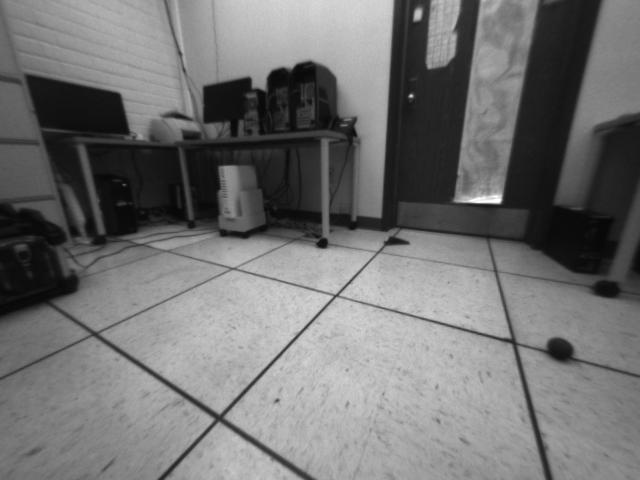dogtoy: (538, 324, 579, 371)
